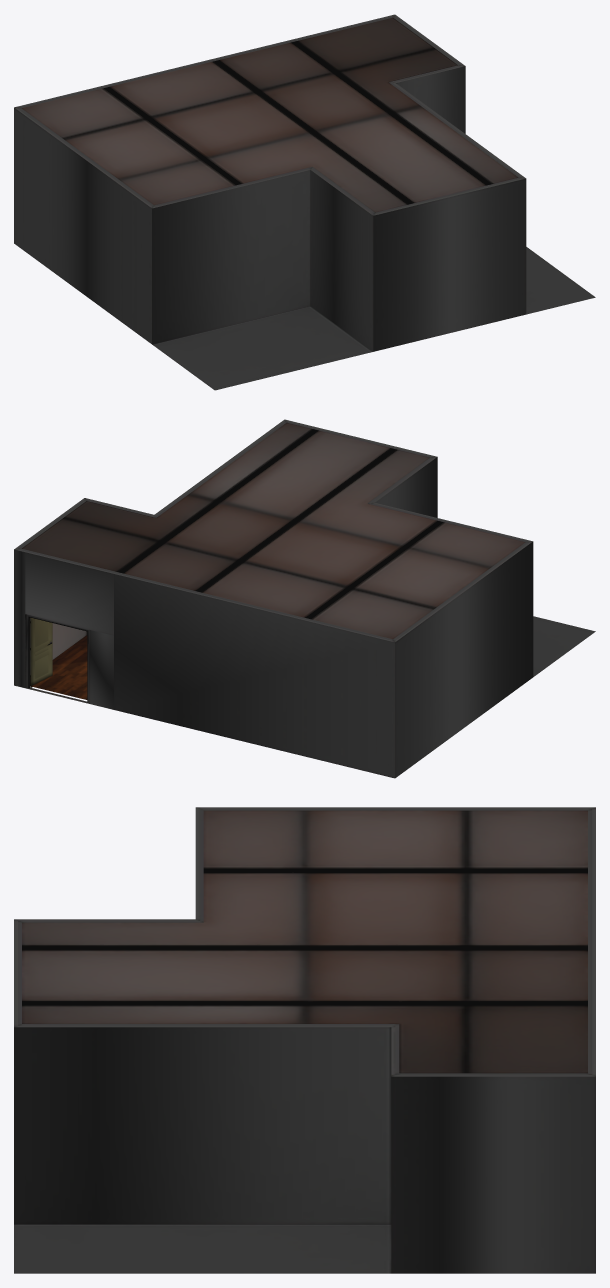
Rendered from walls.glb.
The picture shows the model from 3 angles, top to bottom: view 1: azimuth 30°, elevation 25°; view 2: azimuth 150°, elevation 25°; view 3: azimuth 270°, elevation 25°; orthographic projection. The views are drawn at different scales.
Visible parts, largest first — view 1: Cube.001_0; view 2: Cube.001_0; view 3: Cube.001_0.
Part boxes in pixels (x1,y1,x2,y2): Cube.001_0: [14, 14, 595, 390]; Cube.001_0: [14, 419, 595, 778]; Cube.001_0: [14, 807, 595, 1273].
Size of the model in its own units: 15.54 by 5.3 by 14.19.
1 material, 1 textured.
